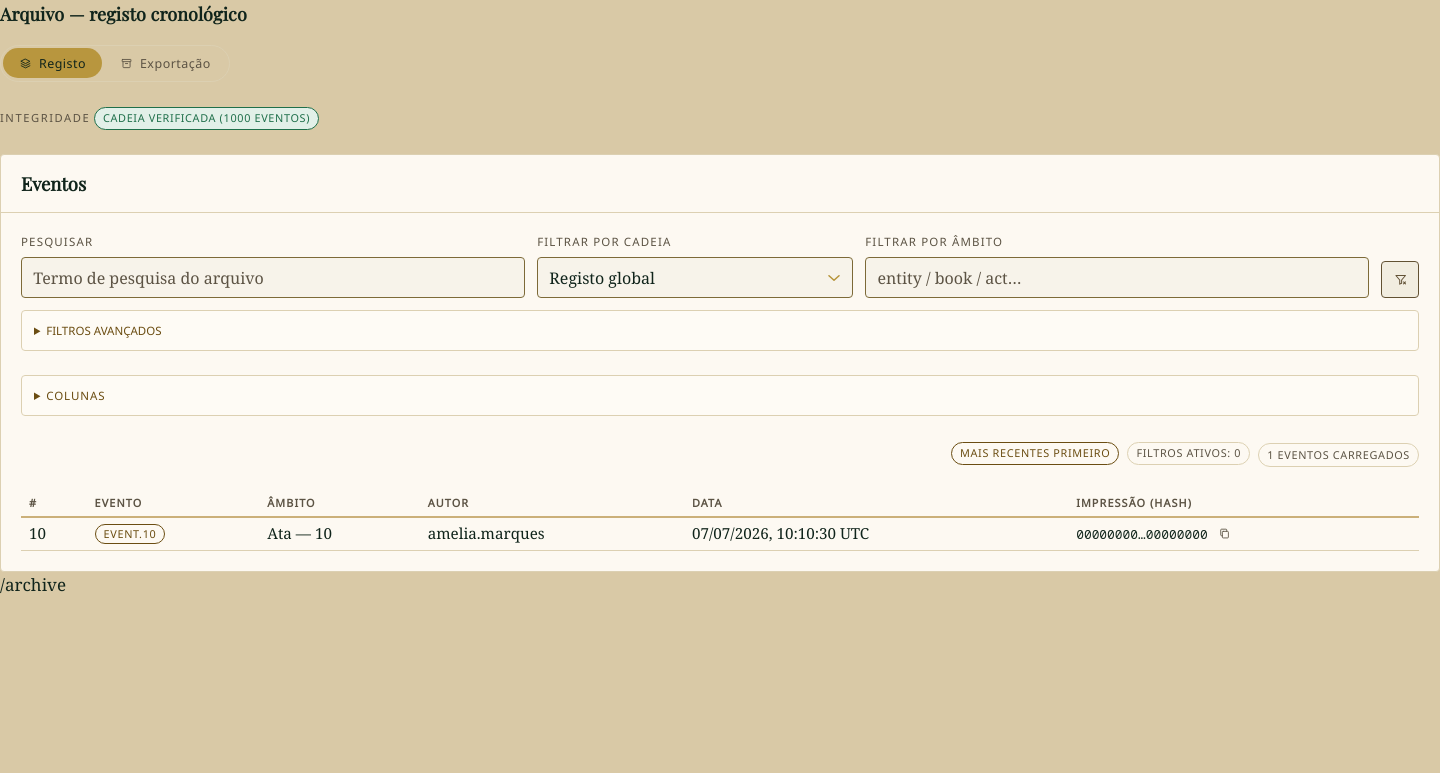
Test: LedgerPage — sub-tabs › paints the incoming sub-tab on the click, not after the enter animation
This screenshot has width=1440, height=773.
Expected: the text "event.10" is shown, [104,526,156,541]
Click the button "Exportação": (166, 64) [104,49,227,79]
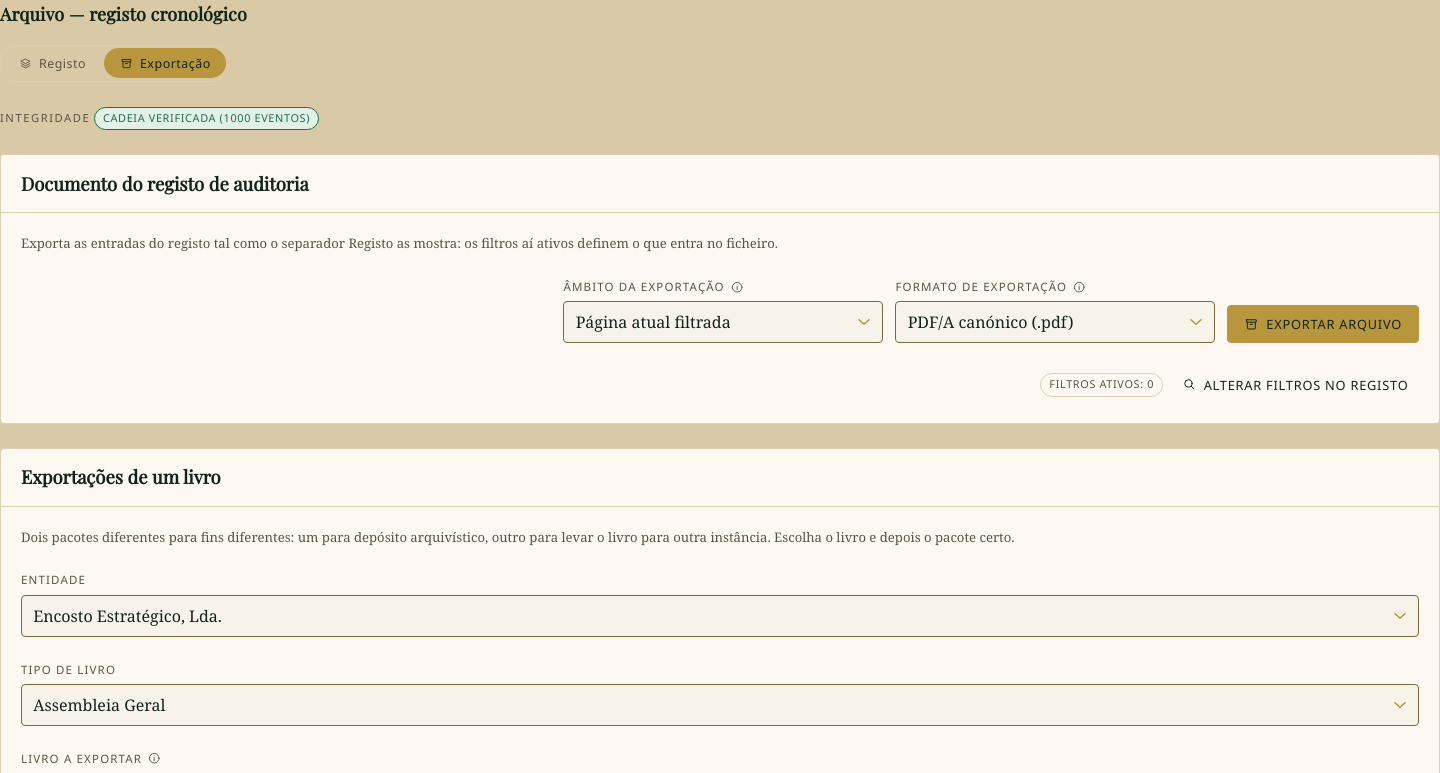
Expected: the heading "Documento do registo de auditoria" is shown, [21,170,308,198]
Expected: the text "event.10" is gone
